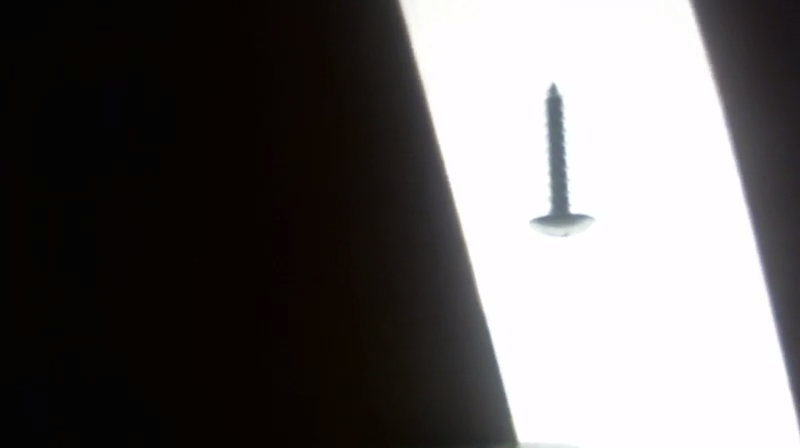S003: (524, 79, 596, 243)
